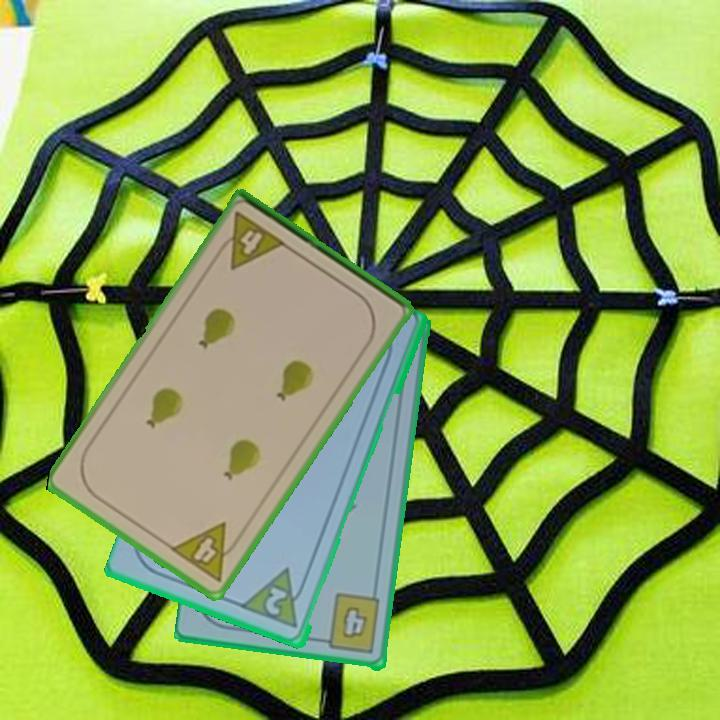2p: (261, 584, 291, 619)
4b: (315, 591, 383, 657)
4p: (166, 519, 246, 585), (211, 208, 289, 273)
